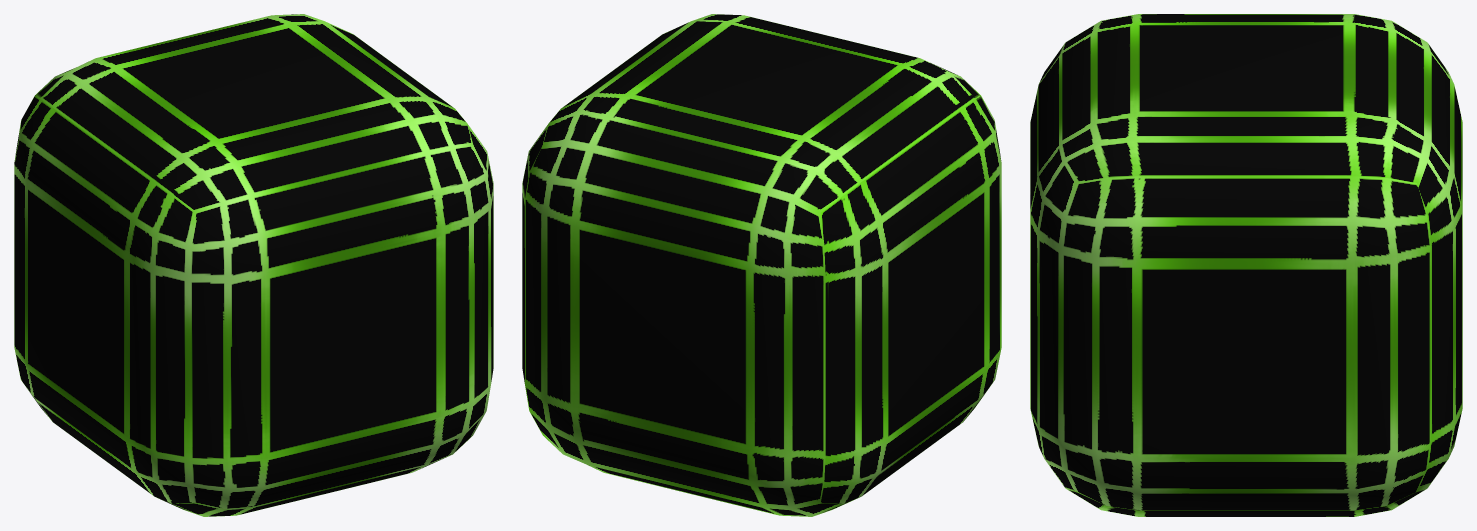
The picture shows the model from 3 angles, left to right: view 1: azimuth 30°, elevation 25°; view 2: azimuth 150°, elevation 25°; view 3: azimuth 270°, elevation 25°; orthographic projection. The views are drawn at different scales.
Parts seen in each view (by area): view 1: C_4_5; view 2: C_4_5; view 3: C_4_5.
Boxes of the visible parts, x1,y1,x2,y2 form: C_4_5: (14, 14, 493, 516); C_4_5: (522, 14, 1001, 516); C_4_5: (1030, 14, 1462, 516).
Bounding box in the file's own units: 4.5 × 4.5 × 4.5.
Materials: 1 (1 with a texture image).
